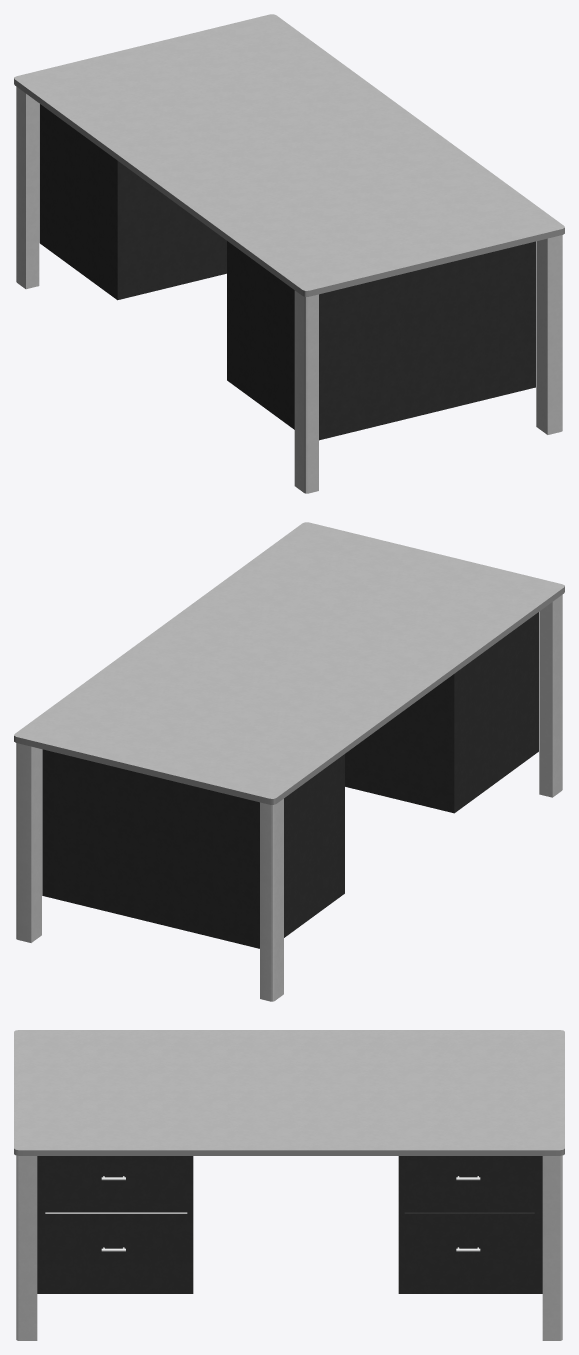
Rendered from office_desk.glb.
3 renders of one model, top to bottom at view 1: azimuth 30°, elevation 25°; view 2: azimuth 150°, elevation 25°; view 3: azimuth 270°, elevation 25°, orthographic. The views are drawn at different scales.
Parts seen in each view (by area): view 1: desk; view 2: desk; view 3: desk.
Boxes of the visible parts, <box> form: desk: <box>14,14,564,493</box>; desk: <box>14,522,564,1001</box>; desk: <box>14,1030,564,1340</box>.
Bounding box in the file's own units: 288 × 214 × 557.
5 materials, 4 textured.
